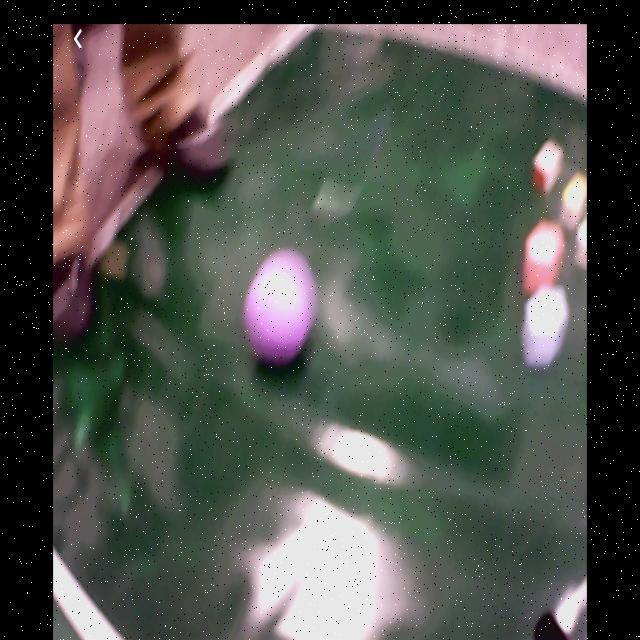ball: (247, 273, 308, 361)
